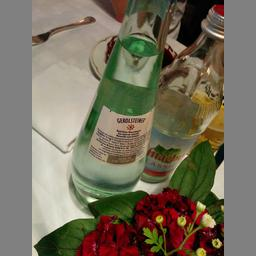water: (68, 0, 170, 214)
